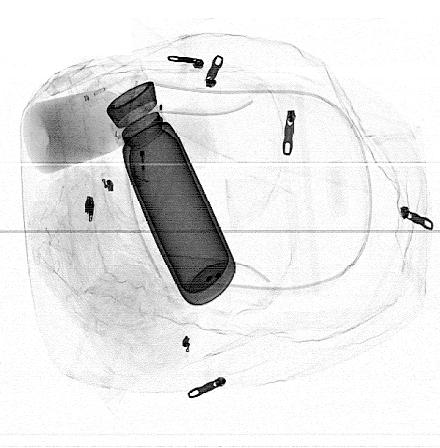Lighter: (130, 109, 152, 188)
